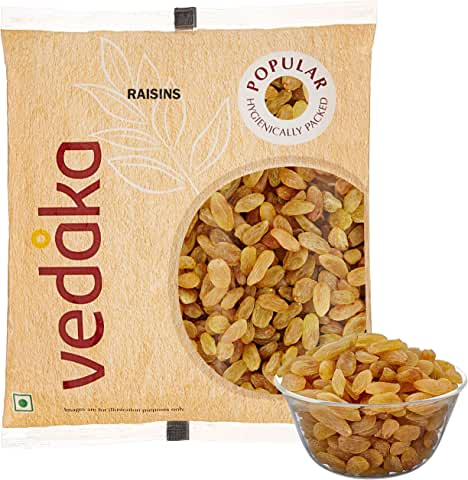veg: (12, 391, 38, 412)
